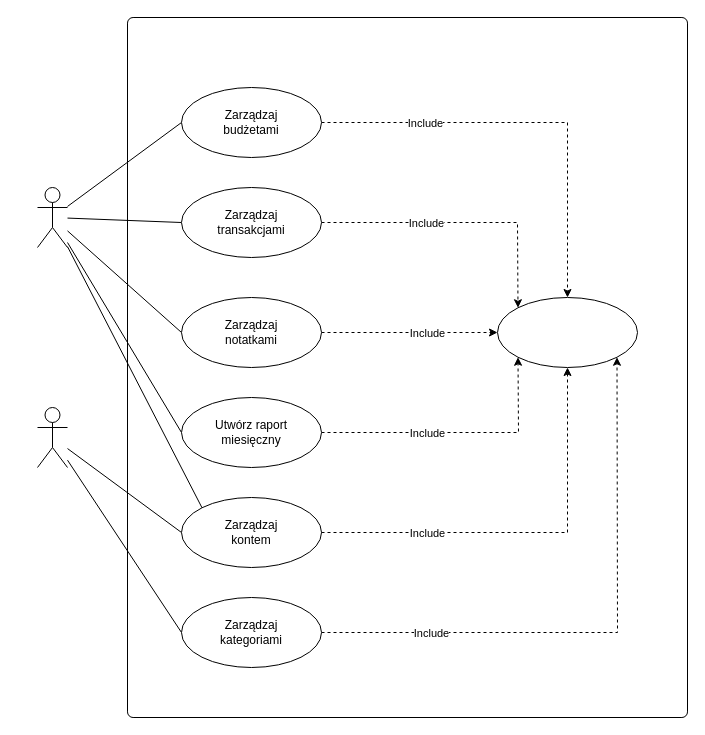
Some shapes in this 705 by 735 pixel diagram are drawn without their labels. The centre of each missing label's shape, as x and y in pixels:
Administrator: the point at 52,437
Autoryzuj użytkownika: the point at 567,332
Użytkownik: the point at 52,217
